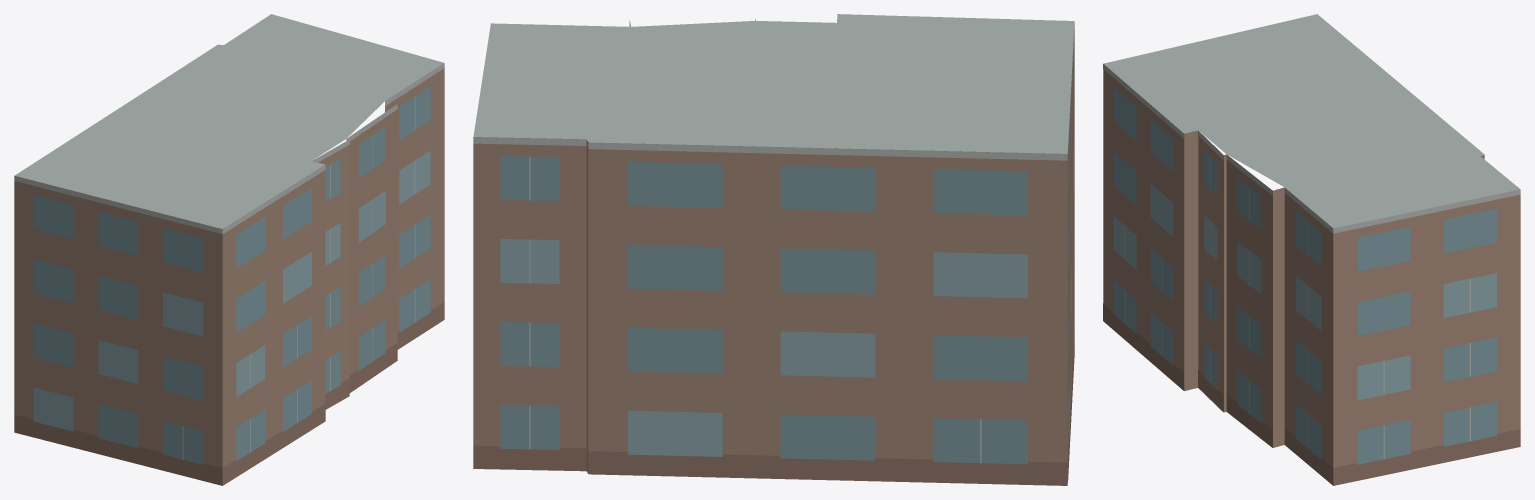
File: survey-upis-32986911.glb
The picture shows the model from 3 angles, left to right: view 1: azimuth 30°, elevation 25°; view 2: azimuth 150°, elevation 25°; view 3: azimuth 270°, elevation 25°; orthographic projection. The views are drawn at different scales.
Parts seen in each view (by area): view 1: survey-upis-32986911.tmp; view 2: survey-upis-32986911.tmp; view 3: survey-upis-32986911.tmp.
Boxes of the visible parts, <box> form: survey-upis-32986911.tmp: <box>14,14,444,485</box>; survey-upis-32986911.tmp: <box>473,14,1074,485</box>; survey-upis-32986911.tmp: <box>1103,14,1520,485</box>.
Size of the model in its own units: 21.62 by 12.1 by 17.79.
